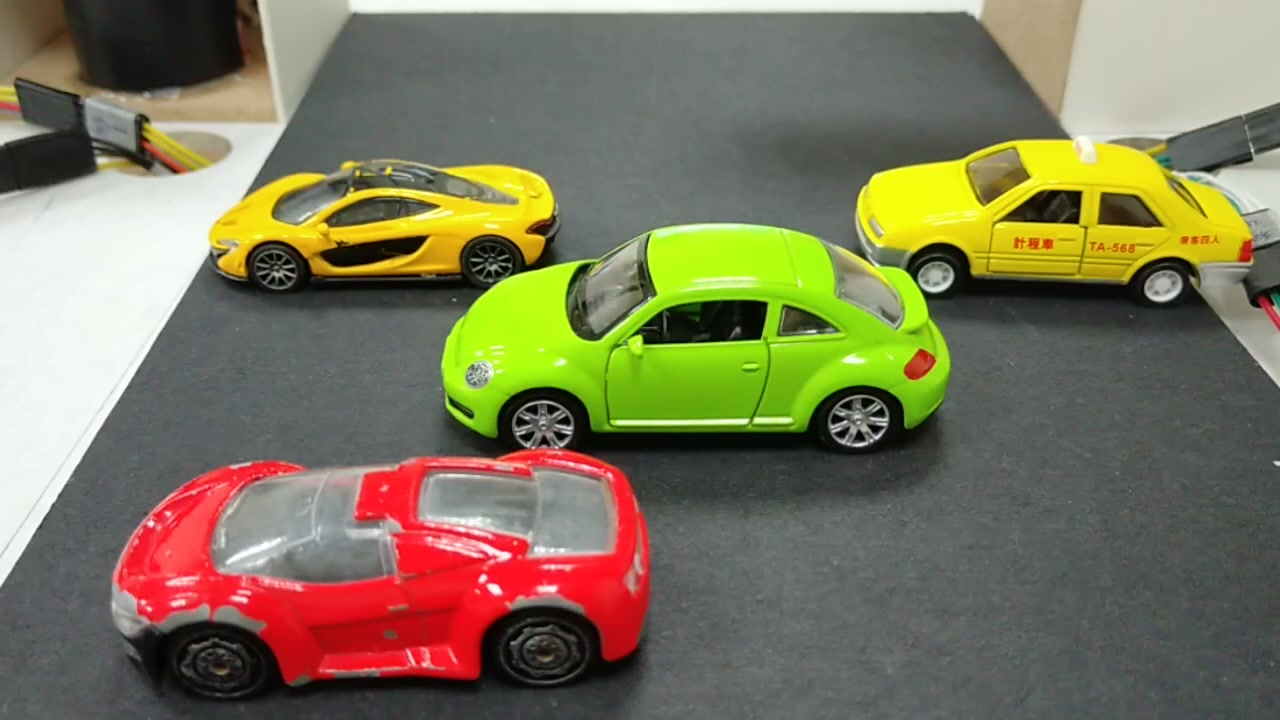car: (100, 457, 654, 683), (471, 240, 938, 449), (861, 145, 1251, 296), (224, 168, 543, 274)
